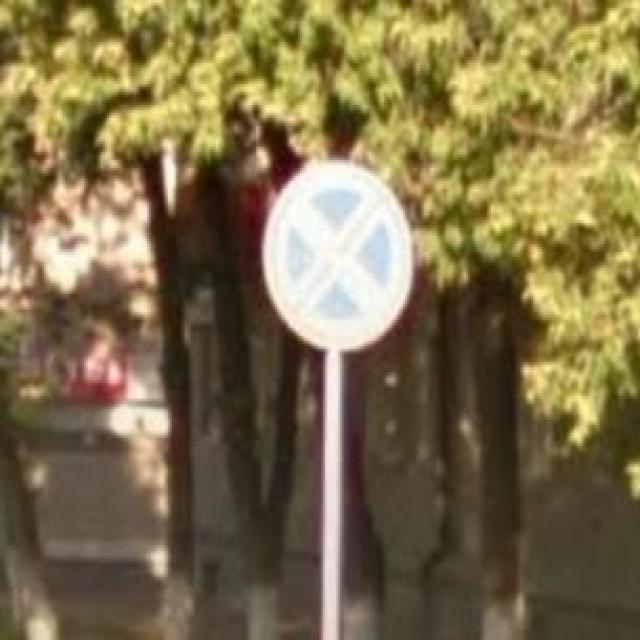Zakaz zatrzymywania sie: (264, 160, 414, 351)
